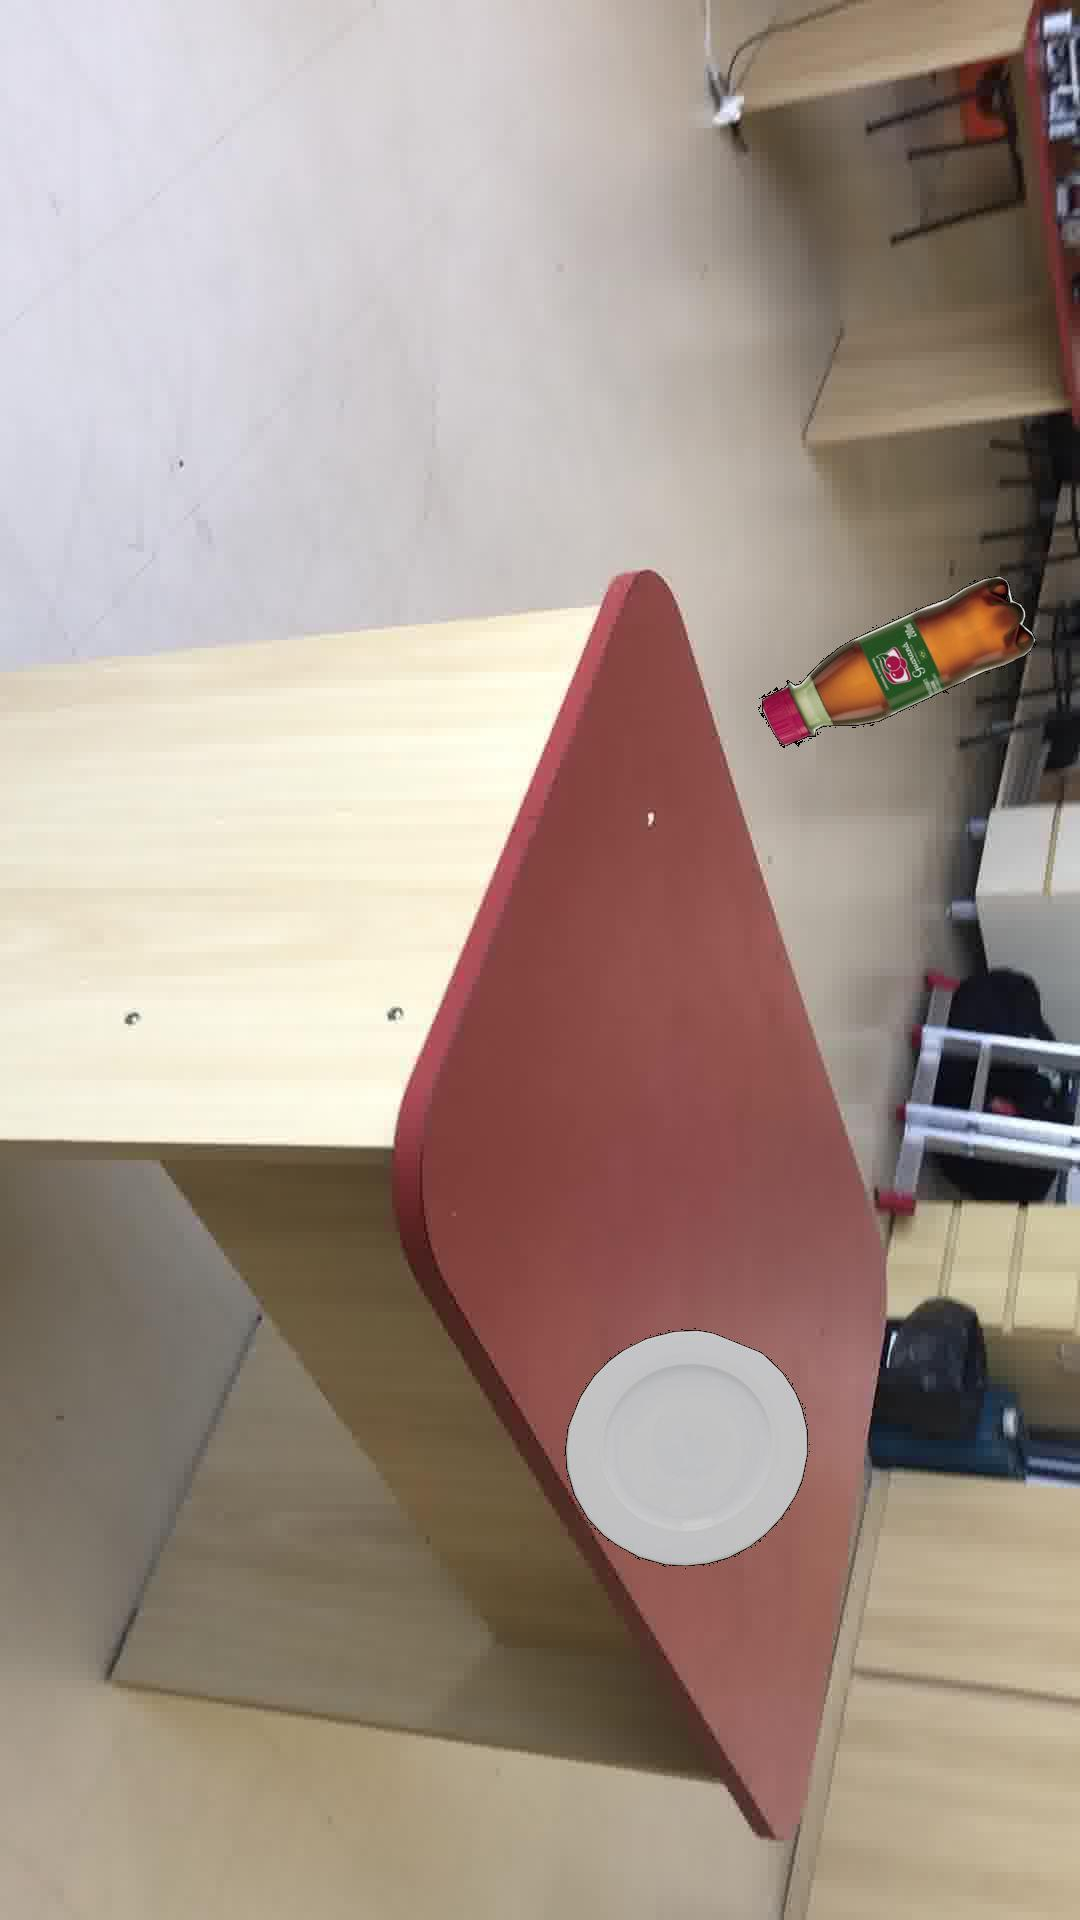guarana: (758, 575, 1034, 746)
plate: (563, 1328, 807, 1564)
